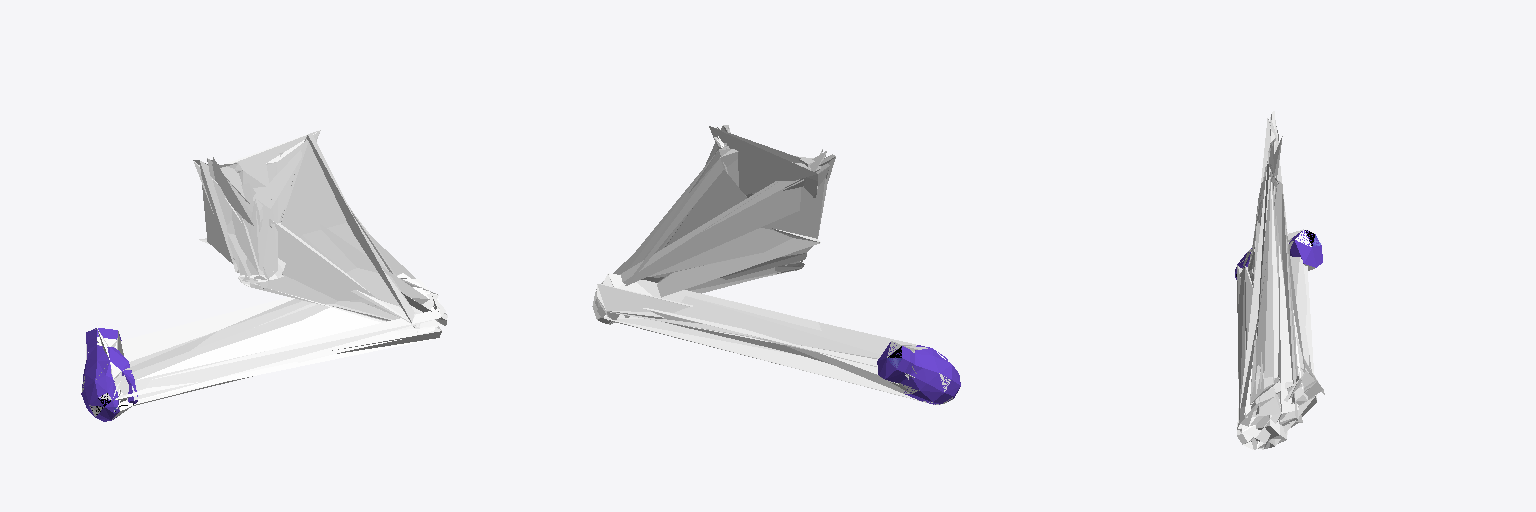
3 renders of one model, left to right at view 1: azimuth 30°, elevation 25°; view 2: azimuth 150°, elevation 25°; view 3: azimuth 270°, elevation 25°, orthographic.
Parts seen in each view (by area): view 1: pinky; view 2: pinky; view 3: pinky.
Part boxes in pixels (x1,y1,x2,y2): pinky: (81, 130, 447, 421); pinky: (592, 125, 960, 404); pinky: (1235, 111, 1324, 449).
Size of the model in its own units: 8.09 by 4.96 by 1.77.
Materials: 8 (1 with a texture image).